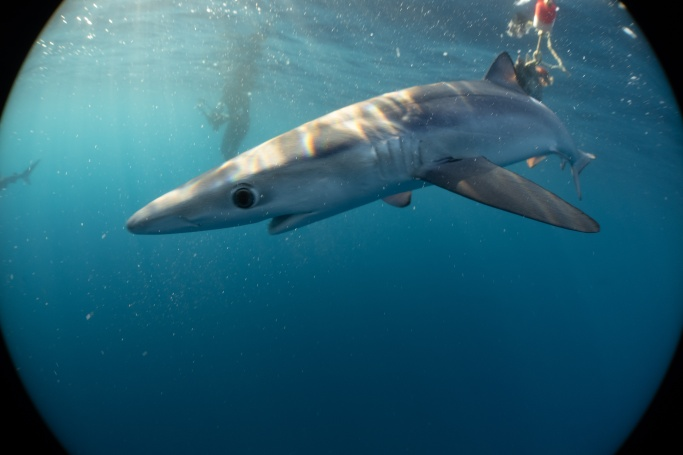Azul: (103, 35, 630, 271)
